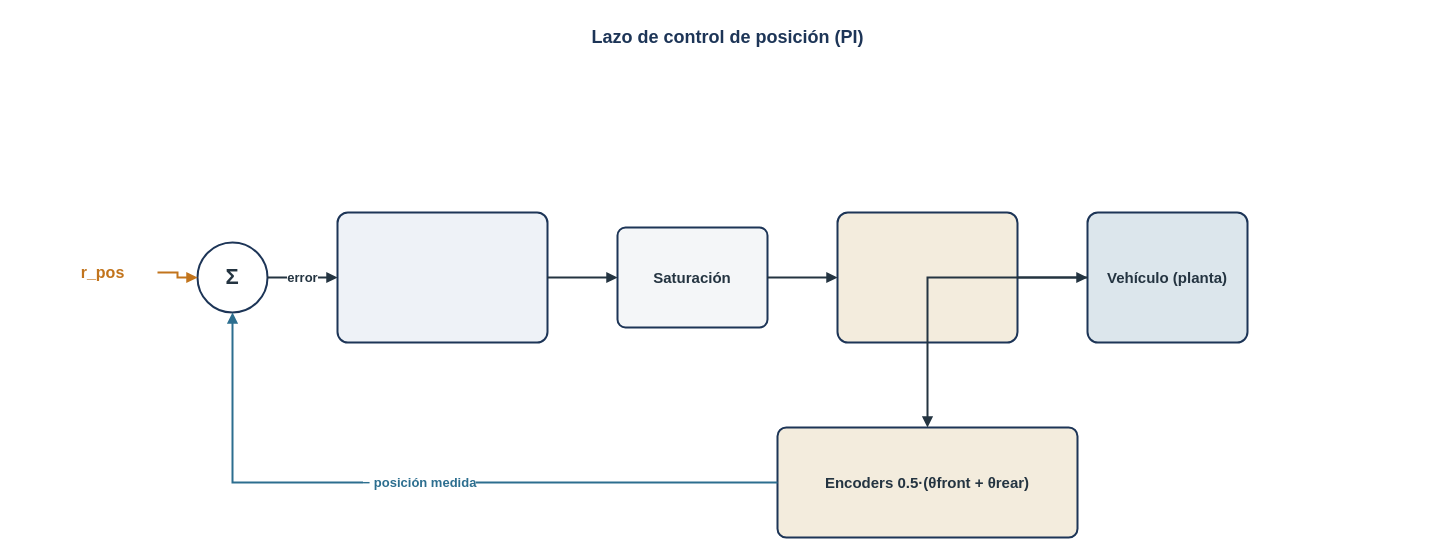
Image size: 1454x555. Some labels were removed from this diagram. The box of each missing label's shape, as (x1, y1, x2, y2) in pixels:
Motor tracción: (836, 211, 1018, 343)
PI posición u = Kp·e + Ki·Σe: (336, 211, 548, 343)
